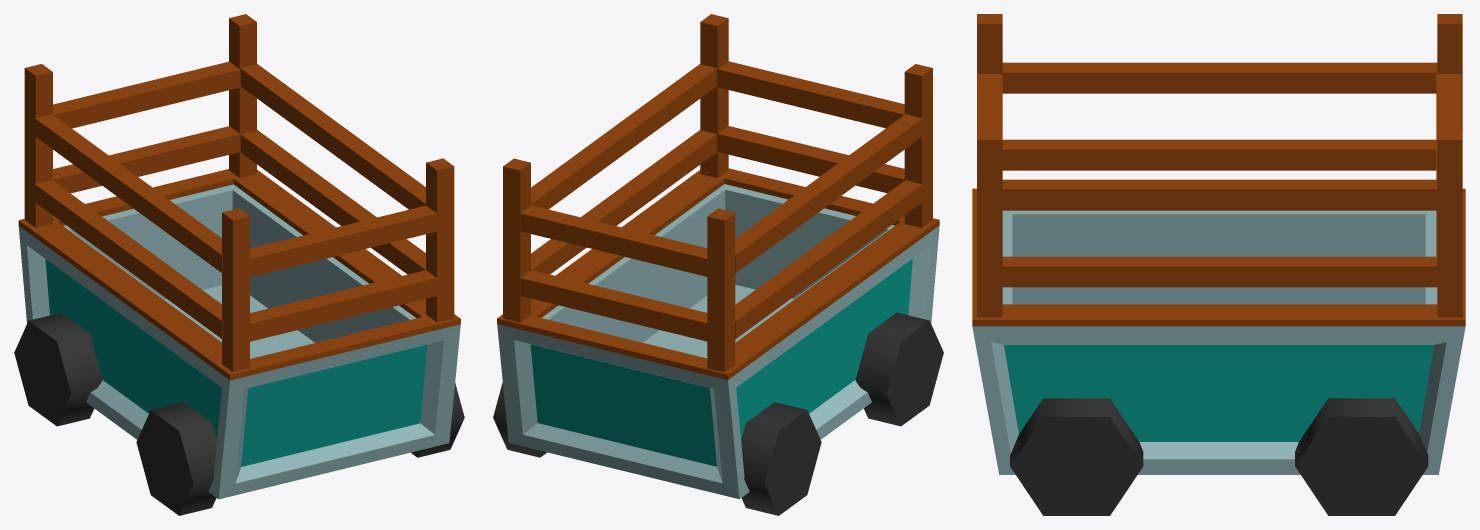
The model's file is Trolly_4.FBX.
3 renders of one model, left to right at view 1: azimuth 30°, elevation 25°; view 2: azimuth 150°, elevation 25°; view 3: azimuth 270°, elevation 25°, orthographic. The views are drawn at different scales.
Visible parts, largest first — view 1: Trolly_4; view 2: Trolly_4; view 3: Trolly_4.
Part boxes in pixels (x1,y1,x2,y2): Trolly_4: (14, 14, 464, 515); Trolly_4: (493, 14, 943, 515); Trolly_4: (972, 14, 1465, 515).
Size of the model in its own units: 1.23 by 1.34 by 1.66.
1 material, 1 textured.
